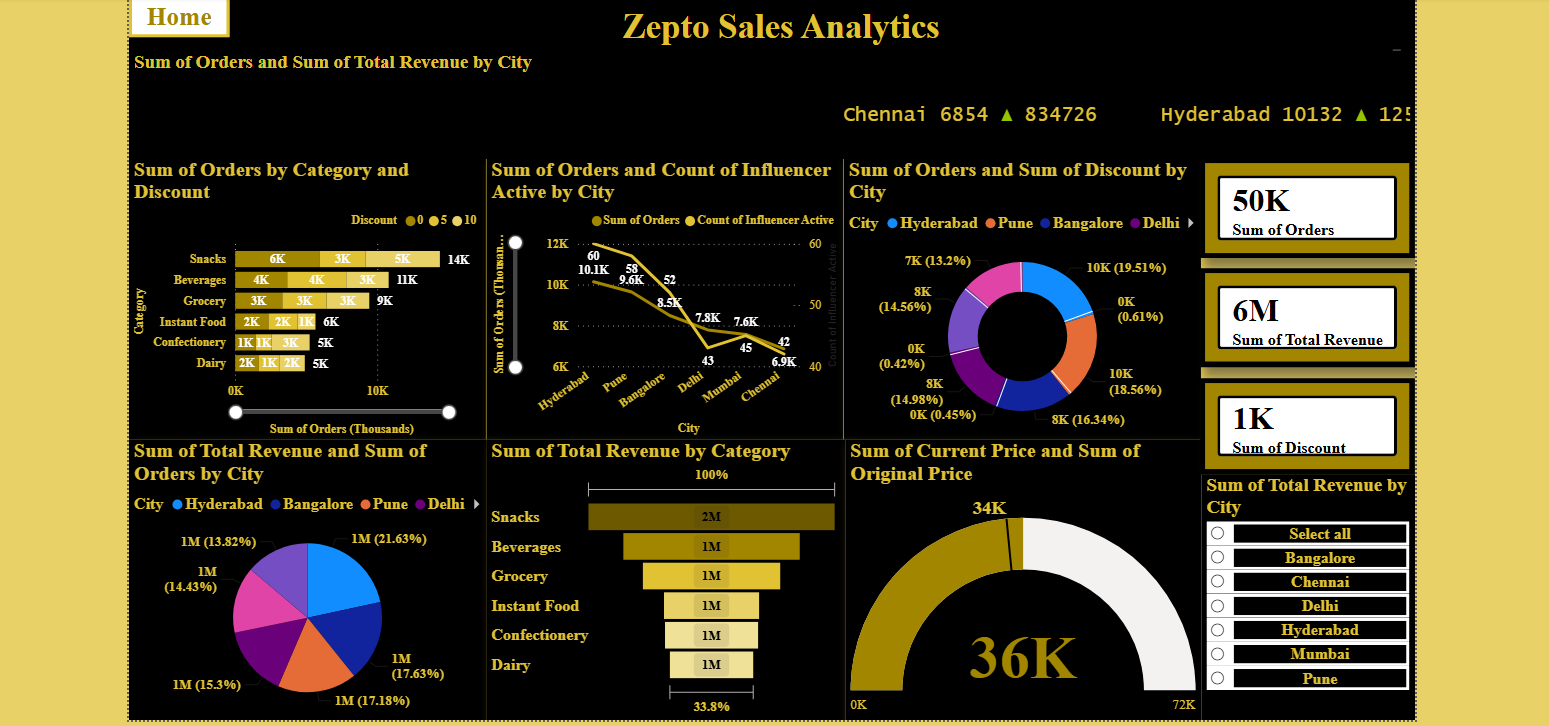

Layout of this report page (visuals, bound fields, positions):
{"tool":"powerbi","page":{"name":"Sales Overview Dashboard","canvas":[1280,720],"ordinal":1},"visuals":[{"type":"barChart","fields":{"Category":["Table1.Category"],"Series":["Table1.Discount"],"Y":["Sum(Table1.Orders)"]},"box":[0,160,355.6,280],"z":0},{"type":"lineChart","fields":{"Category":["Table1.City"],"Y":["Sum(Table1.Orders)"],"Y2":["CountNonNull(Table1.Influencer Active)"]},"box":[355.6,160,355.6,280],"z":1000},{"type":"donutChart","fields":{"Category":["Table1.City"],"Y":["Sum(Table1.Orders)","Sum(Table1.Discount)"]},"box":[711.1,160,355.6,280],"z":2000},{"type":"pieChart","fields":{"Category":["Table1.City"],"Y":["Sum(Table1.Total Revenue)"]},"box":[0,440.4,355.8,279.9],"z":3000},{"type":"textbox","title":"Zepto Sales Analytics","box":[0,0,1280,70.9],"z":4000},{"type":"funnel","fields":{"Category":["Table1.Category"],"Y":["Sum(Table1.Total Revenue)"]},"box":[355.6,440,356.7,280],"z":5000},{"type":"gauge","fields":{"TargetValue":["Sum(Table1.Original Price)"],"Y":["Sum(Table1.Current Price)"]},"box":[712.2,440,354.4,280],"z":6000},{"type":"cardVisual","fields":{"Data":["Sum(Table1.Orders)"]},"box":[1066.1,160.5,214,99.5],"z":7000},{"type":"cardVisual","fields":{"Data":["Sum(Table1.Total Revenue)"]},"box":[1066.1,269.9,214,98.3],"z":8000},{"type":"cardVisual","fields":{"Data":["Sum(Table1.Discount)"]},"box":[1066.1,379.4,214,95.8],"z":9000},{"type":"listSlicer","fields":{"Values":["Table1.City"]},"box":[1067.3,475.2,212.7,245.1],"z":11000},{"type":"ScrollingTextVisual1448795304508","fields":{"Measure Absolute":["Sum(Table1.Orders)"],"Category":["Table1.City"],"Measure Deviation":["Sum(Table1.Total Revenue)"]},"box":[0,53.5,1280,107],"z":12000},{"type":"actionButton","box":[0,0,100,40],"z":12001}]}

Visuals, with their boxes on the page's 1280x720 design canvas (x1, y1, x2, y2). These are canvas units, not pixel positions in the 1549x726 screenshot, which may show the page scaled, cropped or inside an application window:
barChart - Table1.Category x Table1.Discount: [0,160,356,440]
lineChart - Table1.City x Sum(Table1.Orders): [356,160,711,440]
donutChart - Table1.City x Sum(Table1.Orders): [711,160,1067,440]
pieChart - Table1.City x Sum(Table1.Total Revenue): [0,440,356,720]
"Zepto Sales Analytics" textbox: [0,0,1280,71]
funnel - Table1.Category x Sum(Table1.Total Revenue): [356,440,712,720]
gauge - Sum(Table1.Original Price) x Sum(Table1.Current Price): [712,440,1067,720]
cardVisual - Sum(Table1.Orders): [1066,160,1280,260]
cardVisual - Sum(Table1.Total Revenue): [1066,270,1280,368]
cardVisual - Sum(Table1.Discount): [1066,379,1280,475]
listSlicer - Table1.City: [1067,475,1280,720]
ScrollingTextVisual1448795304508 - Sum(Table1.Orders) x Table1.City: [0,54,1280,160]
actionButton: [0,0,100,40]
